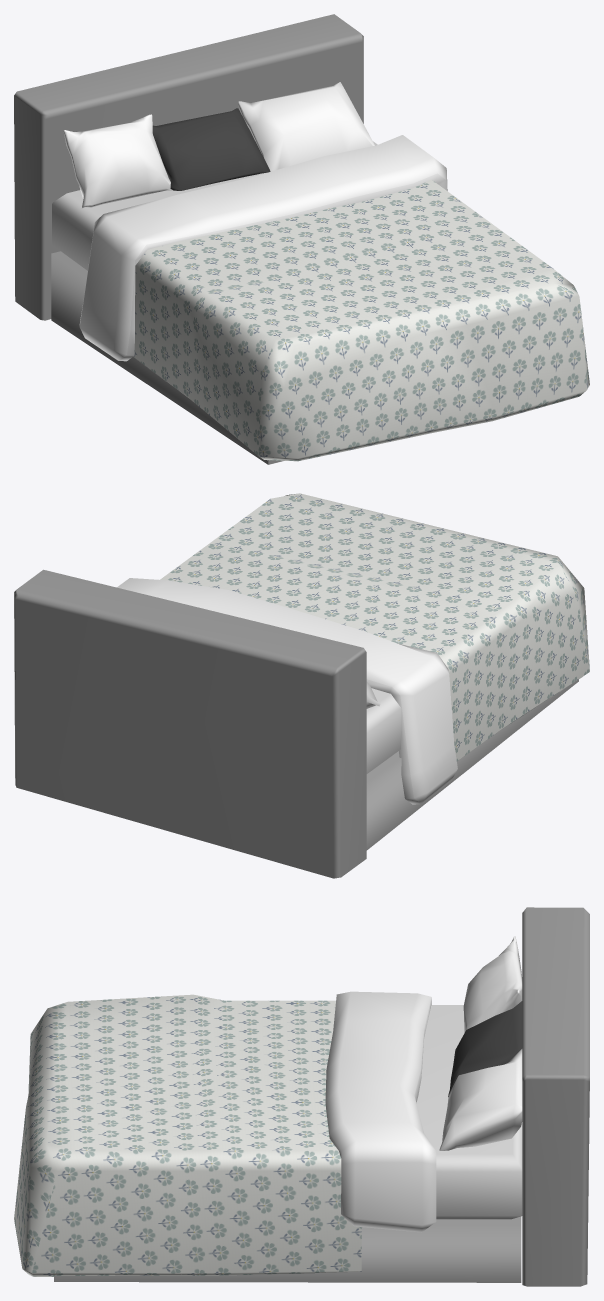
File: bed_003.fbx
The picture shows the model from 3 angles, top to bottom: view 1: azimuth 30°, elevation 25°; view 2: azimuth 150°, elevation 25°; view 3: azimuth 270°, elevation 25°; orthographic projection. The views are drawn at different scales.
Visible parts, largest first — view 1: bed_003; view 2: bed_003; view 3: bed_003.
Part boxes in pixels (x1,y1,x2,y2): bed_003: [14, 14, 589, 464]; bed_003: [14, 493, 589, 878]; bed_003: [14, 907, 589, 1286].
Size of the model in its own units: 188 by 256 by 111.
